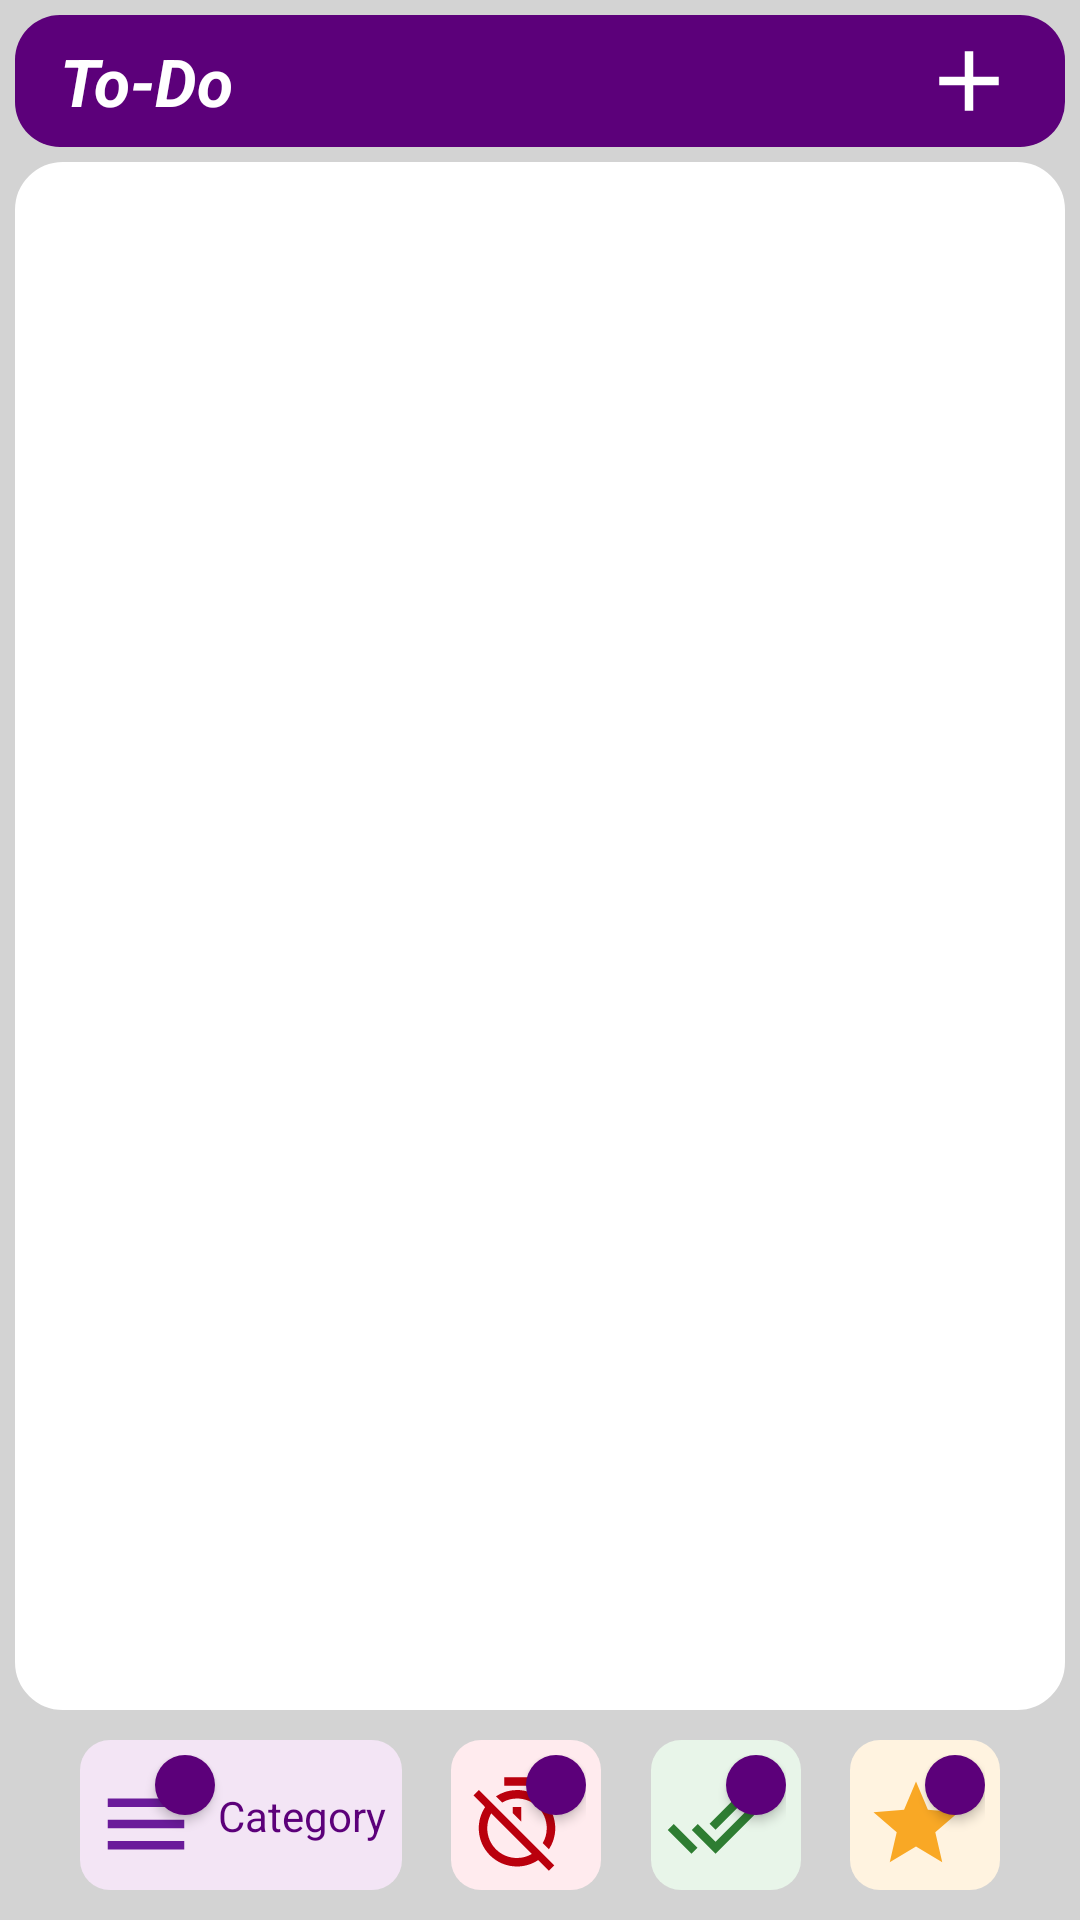

Point at icon controls on the screen. Image size 1080px x 1920px, points as (x=x, y=y).
add: (x=969, y=81)
